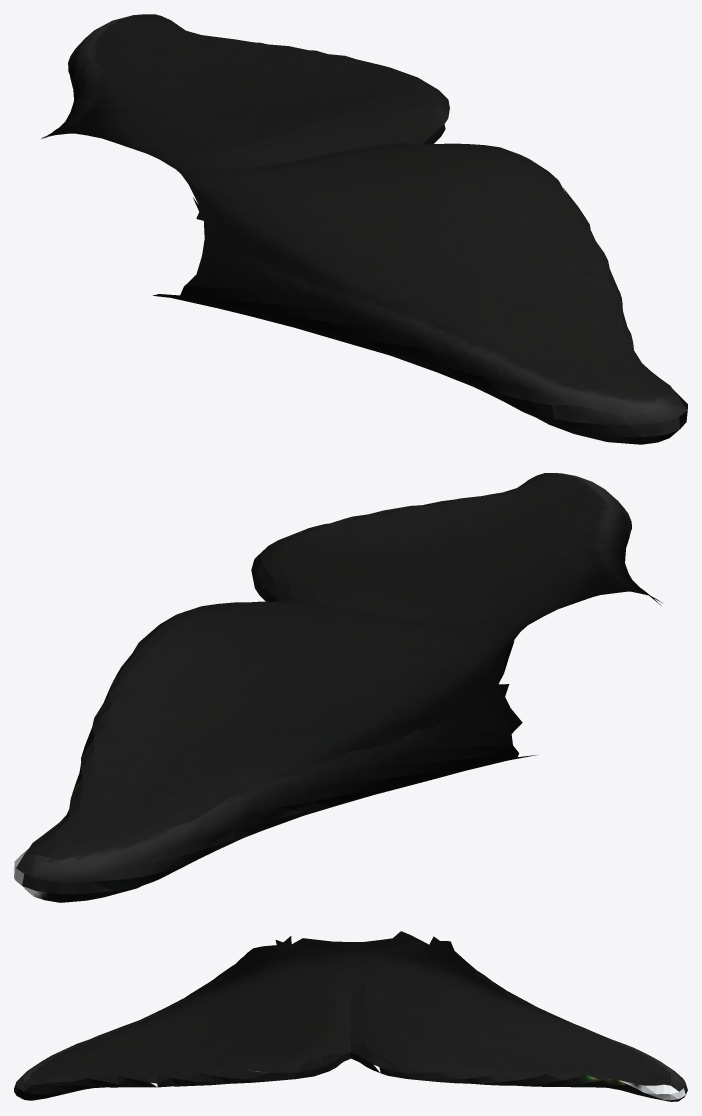
Rendered from tail.glb.
3 views of the same model, one above another, from view 1: azimuth 30°, elevation 25°; view 2: azimuth 150°, elevation 25°; view 3: azimuth 270°, elevation 25° (orthographic). The views are drawn at different scales.
Visible parts, largest first — view 1: Tail; view 2: Tail; view 3: Tail.
Boxes of the visible parts, x1,y1,x2,y2 form: Tail: (41,14,687,444); Tail: (14,473,662,902); Tail: (14,931,687,1101).
Size of the model in its own units: 0.2092 by 0.0741 by 0.4756.
1 material, 1 textured.
